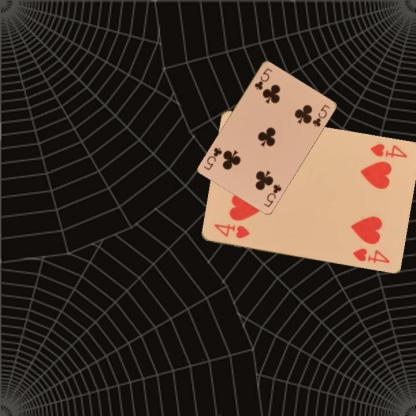4h: (367, 139, 408, 160), (211, 221, 251, 240)
5c: (261, 181, 283, 208), (252, 65, 274, 91)
